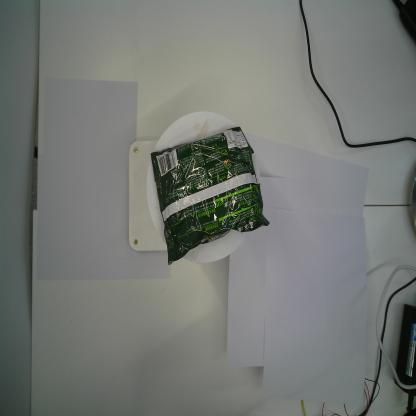Instant Noodles: (149, 124, 270, 267)
